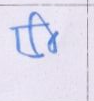i_matra: (32, 11, 59, 54)
